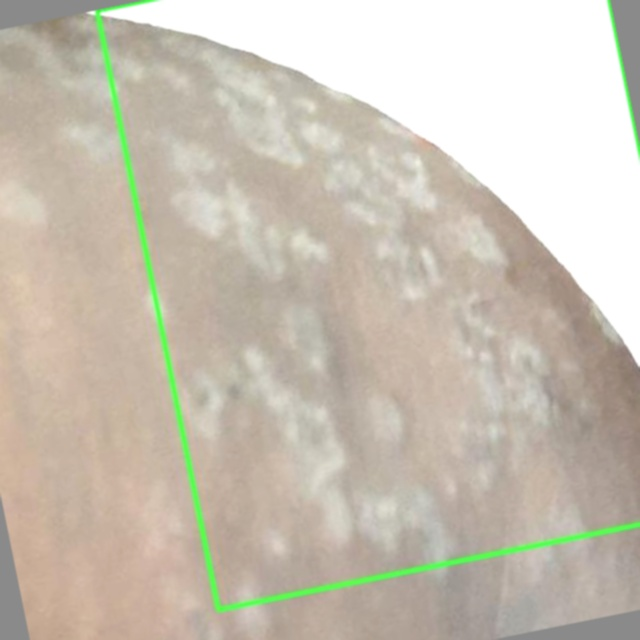Tinea Corporis: (97, 0, 639, 609)
